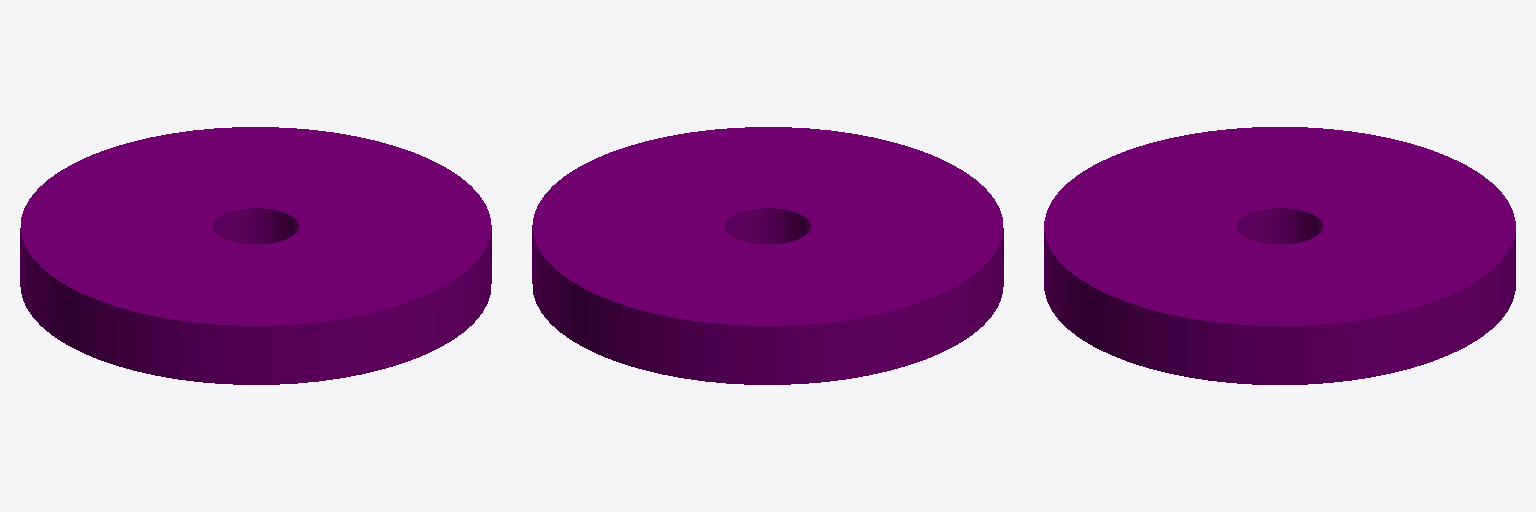
robot.urdf — token_d520:
<?xml version="1.0"?>
<robot name="token_d520">

    <material name="purple">
        <color rgba="0.5 0 0.5 1"/>
    </material>

    <link name="token_d520_link">
        <inertial>
            <origin xyz="0 0 0.0036"/>
            <mass value="0.45" />
            <inertia  ixx="0.000079912" ixy="0.0"  ixz="0.0"  iyy="0.000079912"  iyz="0.0"  izz="0.000156656" />
        </inertial>
        <visual>
            <origin rpy="0 0 0" xyz="0 0 0"/>
            <geometry>
                <mesh filename="package://edo_games/meshes/towers_of_hanoi/token-52.STL" />
            </geometry>
            <material name="purple"/>
        </visual>
        <collision>
            <origin rpy="0 0 0" xyz="0 0 0"/>
            <geometry>
                <mesh filename="package://edo_games/meshes/towers_of_hanoi/token-52.STL" />
            </geometry>
        </collision>
    </link>
    <gazebo reference="token_d520_link">
        <dampingFactor>0.5</dampingFactor>
        <material>Gazebo/Purple</material>
    </gazebo>

</robot>

--- What the picture shows (computed from the rendered views, not written in the file) ---
The picture shows the robot from 3 angles, left to right: view 1: azimuth 30°, elevation 25°; view 2: azimuth 150°, elevation 25°; view 3: azimuth 270°, elevation 25°; orthographic projection.
Model token_d520 with 1 links and 0 joints (none), rooted at token_d520_link, posed all joints at 0.
Visible links, largest first — view 1: token_d520_link; view 2: token_d520_link; view 3: token_d520_link.
Boxes of the visible links, <box> form: token_d520_link: <box>20,127,491,384</box>; token_d520_link: <box>532,127,1003,384</box>; token_d520_link: <box>1044,127,1515,384</box>.
Size in the robot's own frame: 0.052 by 0.0519 by 0.0072 metres.
1 mesh visuals loaded from 1 distinct referenced files (1 binary STL).